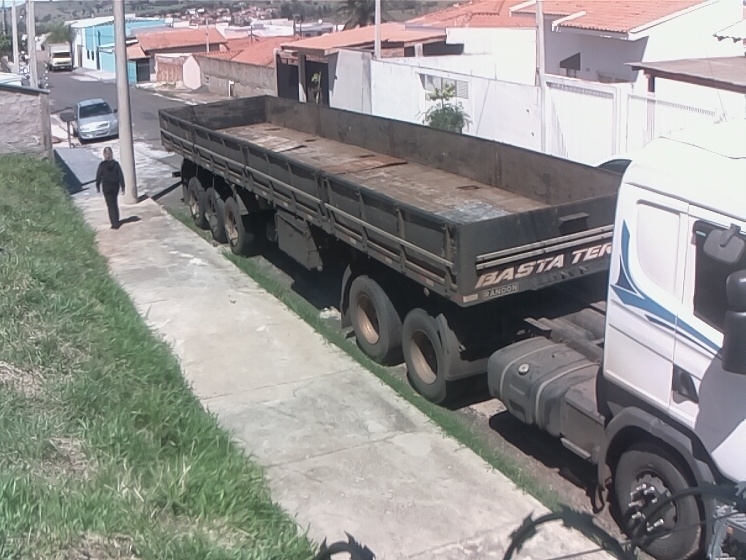person: (93, 144, 128, 231)
